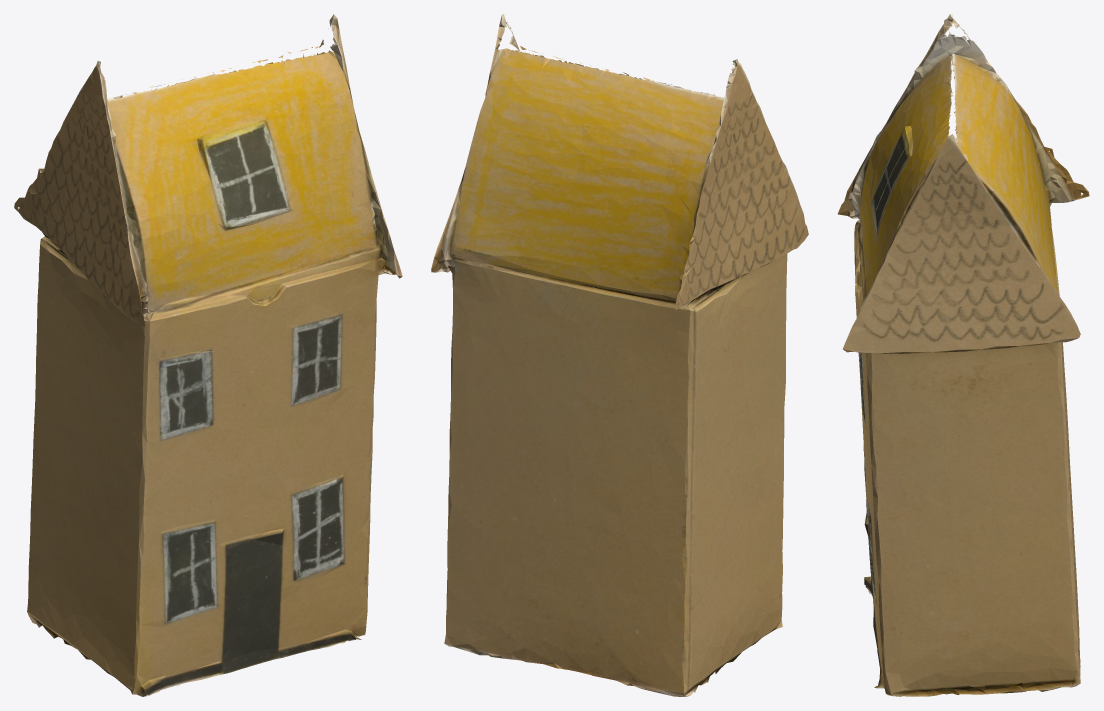
The picture shows the model from 3 angles, left to right: view 1: azimuth 30°, elevation 25°; view 2: azimuth 150°, elevation 25°; view 3: azimuth 270°, elevation 25°; orthographic projection. The views are drawn at different scales.
Visible parts, largest first — view 1: Object_0; view 2: Object_0; view 3: Object_0.
Part boxes in pixels (x1=…): Object_0: x1=14, y1=14, x2=402, y2=696; Object_0: x1=431, y1=14, x2=808, y2=696; Object_0: x1=837, y1=14, x2=1089, y2=696.
Bounding box in the file's own units: 11.54 × 25.64 × 10.16.
1 material, 1 textured.
